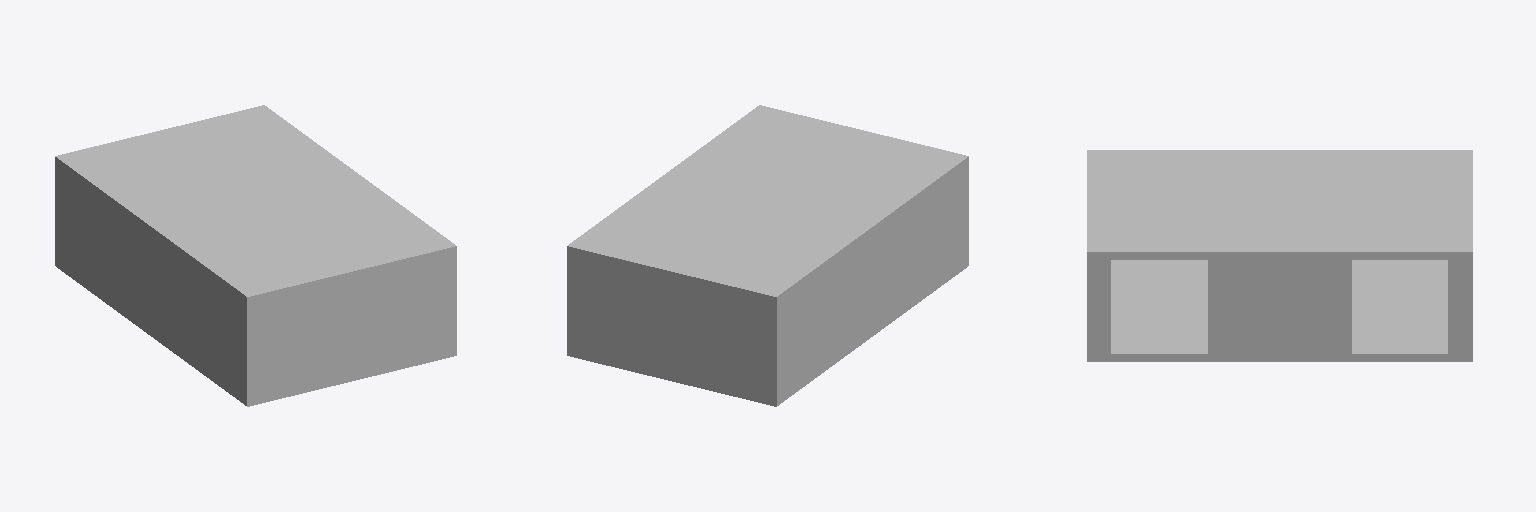
File: ruangan 2.obj
3 views of the same model, side by side, from view 1: azimuth 30°, elevation 25°; view 2: azimuth 150°, elevation 25°; view 3: azimuth 270°, elevation 25° (orthographic).
Visible parts, largest first — view 1: 6x5x2,5; view 2: 6x5x2,5; view 3: 6x5x2,5.
Part boxes in pixels (x1,y1,x2,y2): 6x5x2,5: (55, 105, 456, 406); 6x5x2,5: (567, 105, 968, 406); 6x5x2,5: (1087, 150, 1472, 361).
Size of the model in its own units: 5 by 2.5 by 7.96.